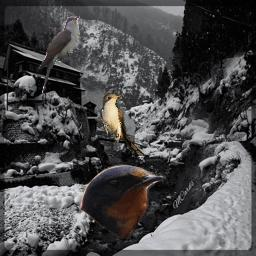Cuckoo: (38, 16, 80, 96), (100, 93, 145, 158)
Swallow: (79, 164, 166, 239)
